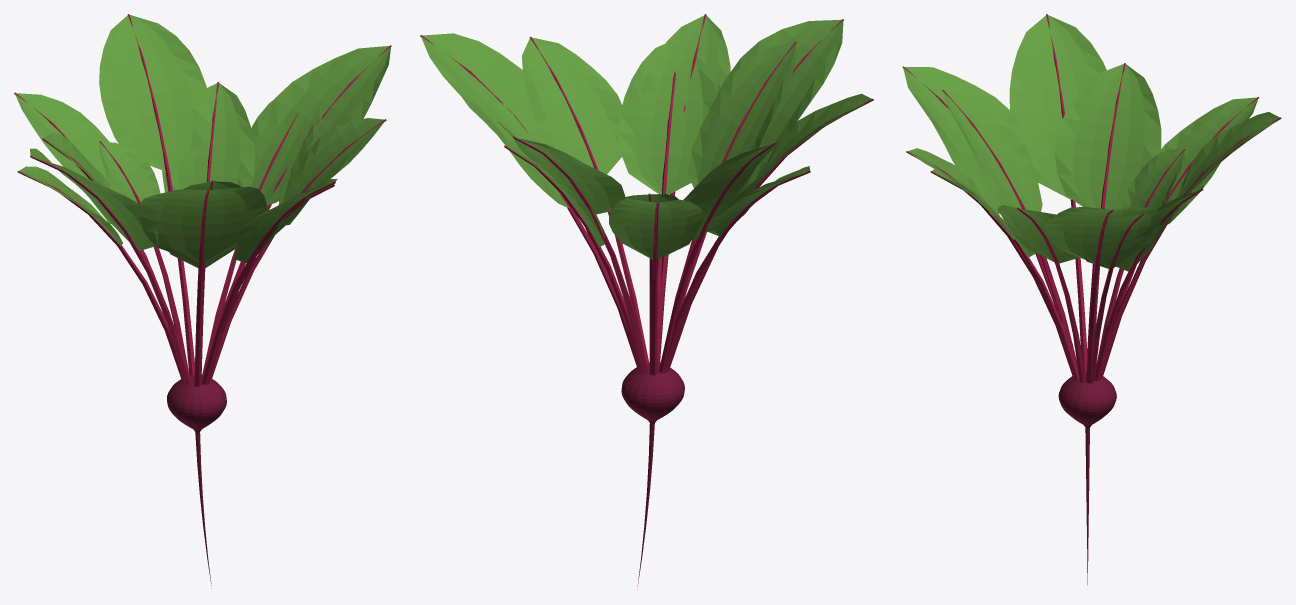
File: beetroot_harvest_v15.glb
The picture shows the model from 3 angles, left to right: view 1: azimuth 30°, elevation 25°; view 2: azimuth 150°, elevation 25°; view 3: azimuth 270°, elevation 25°; orthographic projection. The views are drawn at different scales.
Parts seen in each view (by area): view 1: plant; view 2: plant; view 3: plant.
Boxes of the visible parts, <box> form: plant: <box>14,14,391,588</box>; plant: <box>420,14,873,585</box>; plant: <box>902,14,1281,584</box>.
Bounding box in the file's own units: 0.3797 × 0.4589 × 0.3272.
Materials: 1 (1 with a texture image).
